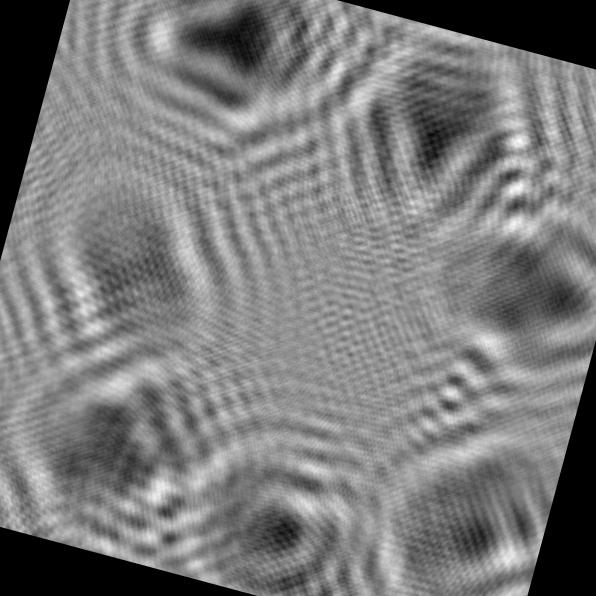A: (63, 0, 388, 201)
I: (0, 114, 304, 428)
J: (153, 378, 438, 596)
L: (335, 388, 570, 596)
T: (0, 318, 268, 584)
V: (294, 4, 575, 280)
Y: (379, 156, 596, 418)
